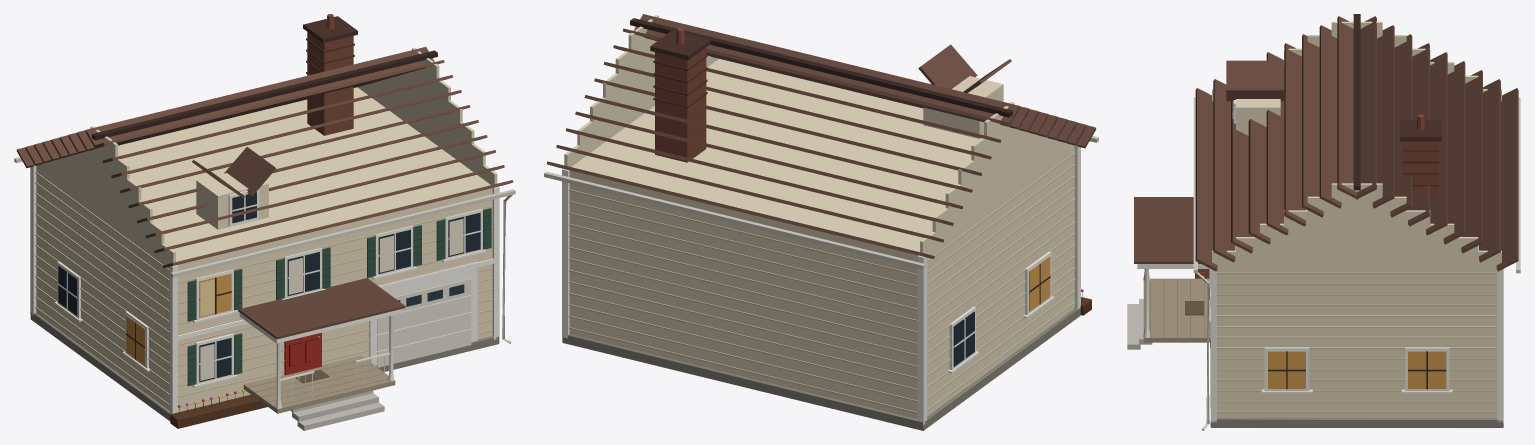
Rendered from suburb_house_a.glb.
The picture shows the model from 3 angles, left to right: view 1: azimuth 30°, elevation 25°; view 2: azimuth 150°, elevation 25°; view 3: azimuth 270°, elevation 25°; orthographic projection. The views are drawn at different scales.
Parts seen in each view (by area): view 1: suburb_house_a; view 2: suburb_house_a; view 3: suburb_house_a.
Part boxes in pixels (bbox=[...]): suburb_house_a: bbox=[14, 14, 515, 430]; suburb_house_a: bbox=[544, 14, 1098, 430]; suburb_house_a: bbox=[1127, 14, 1520, 430].
Bounding box in the file's own units: 12.83 × 9.65 × 12.34.
